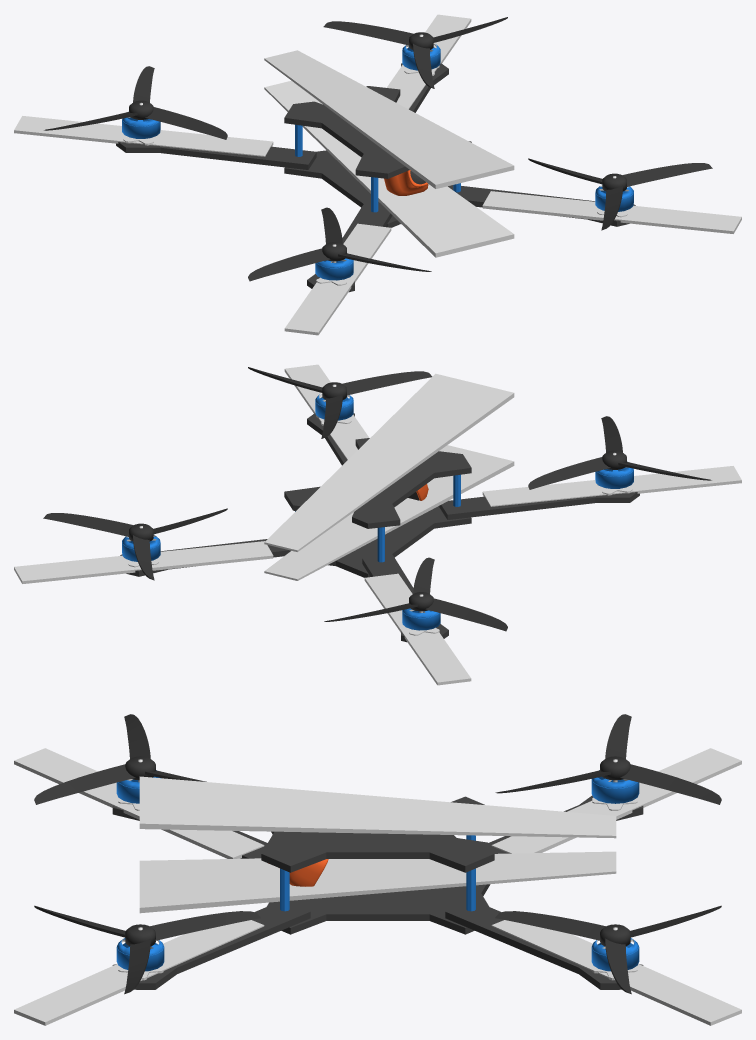
Rendered from quadcopter.gltf.
3 renders of one model, top to bottom at view 1: azimuth 30°, elevation 25°; view 2: azimuth 150°, elevation 25°; view 3: azimuth 270°, elevation 25°, orthographic. The views are drawn at different scales.
Visible parts, largest first — view 1: quad_noimp, Plane, Cube.001, Cube.002, Cylinder.001, Cube, Cylinder.003, Cube.003, Cylinder; view 2: quad_noimp, Plane, Cube.001, Cube.002, Cylinder.001, Cube, Cylinder.003, Cylinder; view 3: quad_noimp, Plane, Cube.002, Cube.001, Cube, Cylinder.001, Cylinder.003, Cylinder, Cylinder.002, Cube.003.
Part boxes in pixels (left/top/right/bottom): quad_noimp: left=14, top=14, right=741, bottom=335; Plane: left=44, top=17, right=712, bottom=281; Cube.001: left=116, top=63, right=635, bottom=292; Cube.002: left=284, top=86, right=471, bottom=178; Cylinder.001: left=122, top=34, right=633, bottom=280; Cube: left=284, top=150, right=400, bottom=227; Cylinder.003: left=129, top=32, right=626, bottom=261; Cube.003: left=384, top=170, right=428, bottom=195; Cylinder: left=295, top=124, right=460, bottom=212; quad_noimp: left=14, top=364, right=741, bottom=685; Plane: left=43, top=367, right=711, bottom=631; Cube.001: left=120, top=413, right=639, bottom=642; Cube.002: left=284, top=438, right=471, bottom=528; Cylinder.001: left=122, top=384, right=633, bottom=630; Cube: left=328, top=506, right=471, bottom=577; Cylinder.003: left=129, top=382, right=626, bottom=611; Cylinder: left=295, top=474, right=460, bottom=562; quad_noimp: left=14, top=748, right=741, bottom=1025; Plane: left=34, top=714, right=721, bottom=994; Cube.002: left=261, top=796, right=494, bottom=872; Cube.001: left=112, top=795, right=643, bottom=989; Cube: left=266, top=884, right=490, bottom=934; Cylinder.001: left=116, top=759, right=639, bottom=971; Cylinder.003: left=125, top=756, right=630, bottom=946; Cylinder: left=280, top=835, right=475, bottom=911; Cylinder.002: left=118, top=797, right=637, bottom=980; Cube.003: left=268, top=859, right=328, bottom=886.
Bounding box in the file's own units: 2.76 × 0.4617 × 3.05.
